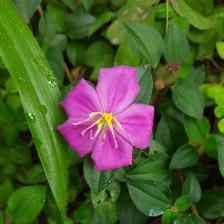malabar melastome: (59, 66, 158, 176)
